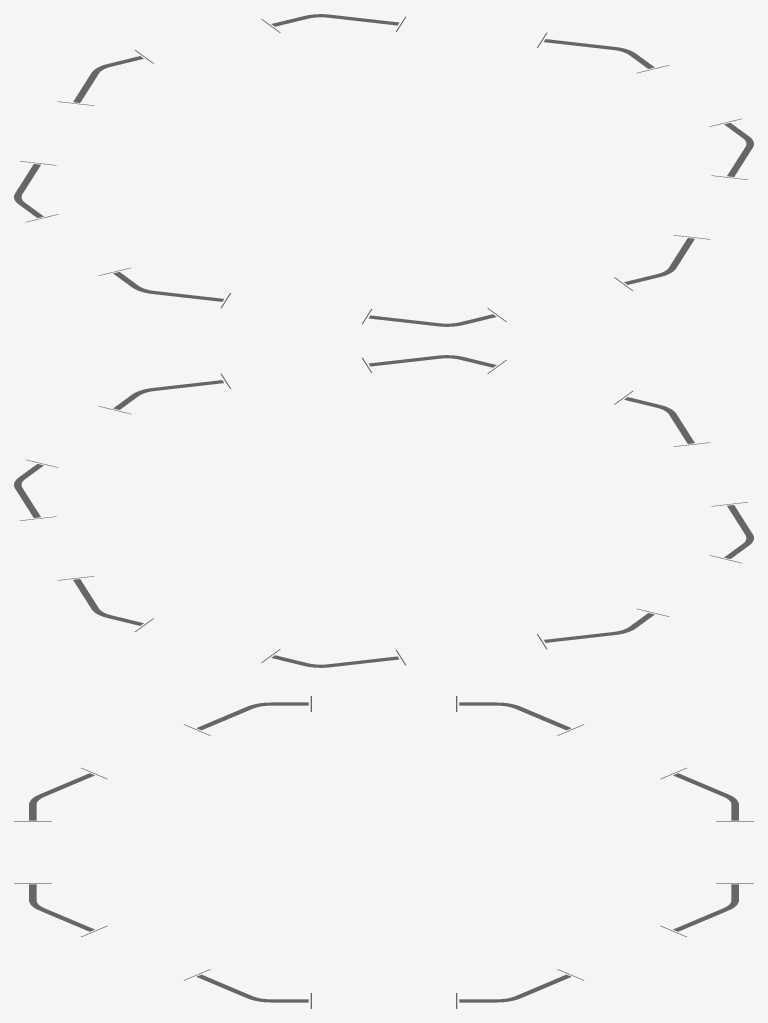
File: MMo_F_001_a_84x84_DC_a.fbx
3 views of the same model, one above another, from view 1: azimuth 30°, elevation 25°; view 2: azimuth 150°, elevation 25°; view 3: azimuth 270°, elevation 25° (orthographic).
Parts seen in each view (by area): view 1: MMo_F_001_a_84x84_DC_a; view 2: MMo_F_001_a_84x84_DC_a; view 3: MMo_F_001_a_84x84_DC_a.
Part boxes in pixels (left/top/right/bottom): MMo_F_001_a_84x84_DC_a: left=14, top=14, right=753, bottom=326; MMo_F_001_a_84x84_DC_a: left=14, top=355, right=753, bottom=667; MMo_F_001_a_84x84_DC_a: left=14, top=696, right=753, bottom=1008.
Size of the model in its own units: 59 by 2.58e-06 by 59.
